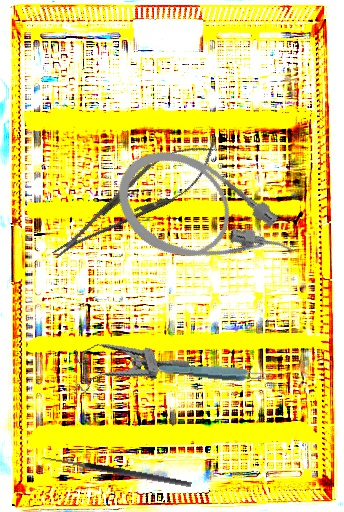Cannula: (99, 131, 310, 307)
Hook Surgical: (38, 453, 193, 496)
Needle Holder: (40, 126, 228, 275)
Speculum: (63, 320, 191, 402)
Tissue Forceps: (158, 362, 272, 384)
